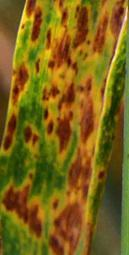Wheat: (9, 141, 87, 255), (15, 63, 104, 135), (27, 4, 116, 58)
